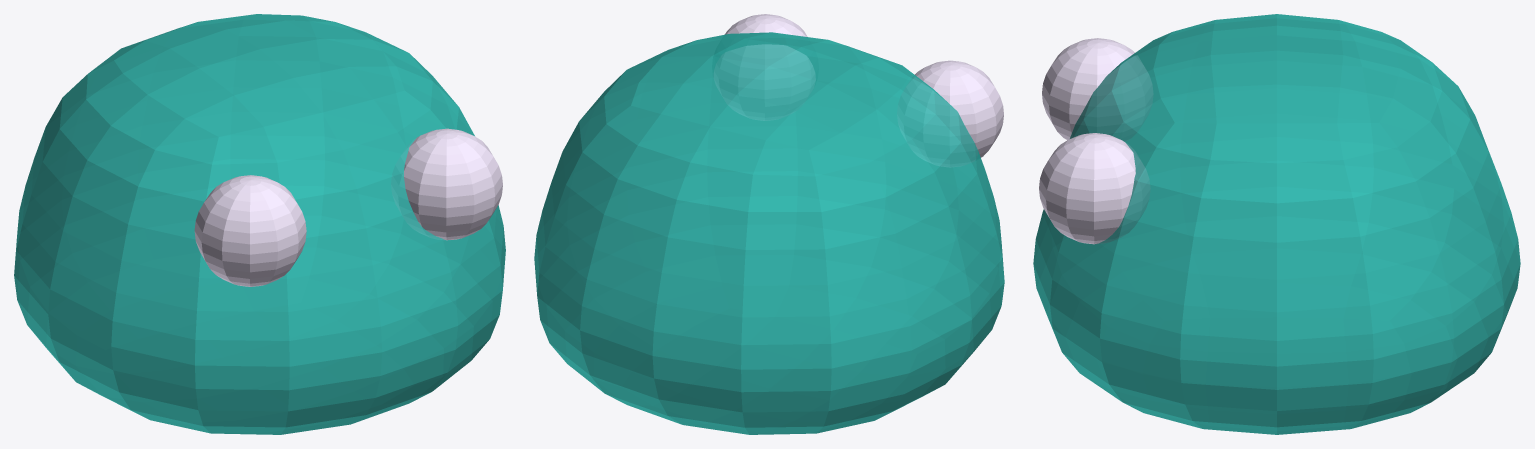
File: slime.fbx
The picture shows the model from 3 angles, left to right: view 1: azimuth 30°, elevation 25°; view 2: azimuth 150°, elevation 25°; view 3: azimuth 270°, elevation 25°; orthographic projection. The views are drawn at different scales.
Parts seen in each view (by area): view 1: 立方体, 球体, 球体.001; view 2: 立方体, 球体, 球体.001; view 3: 立方体, 球体.001, 球体.
Part boxes in pixels (x1,y1,x2,y2): 立方体: (14,14,505,434); 球体: (194,175,306,286); 球体.001: (391,128,502,240); 立方体: (534,32,1004,434); 球体: (897,60,1003,167); 球体.001: (714,14,815,120); 立方体: (1033,14,1520,434); 球体.001: (1039,133,1150,244); 球体: (1042,38,1153,141).
Bounding box in the file's own units: 123 × 123 × 93.98.
